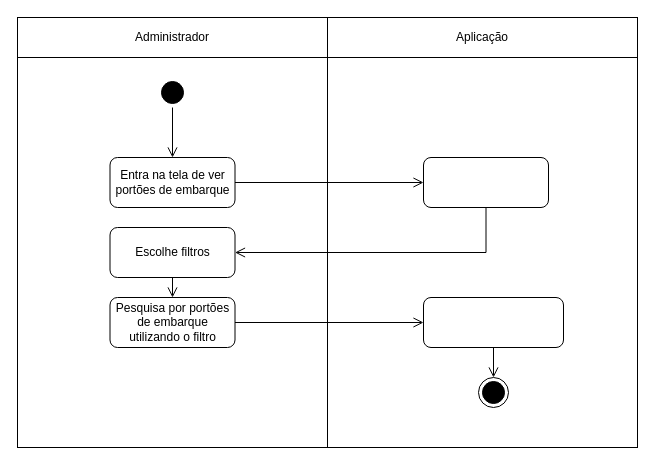
This 655x465 diagram has some shape labels left out. The centre of each missing label's shape, as x and y in pixels:
"Mostra portões de embarque" belongs at (485,182).
"Mostra portões de embarque com base no filtro selecionado" belongs at (493,322).
